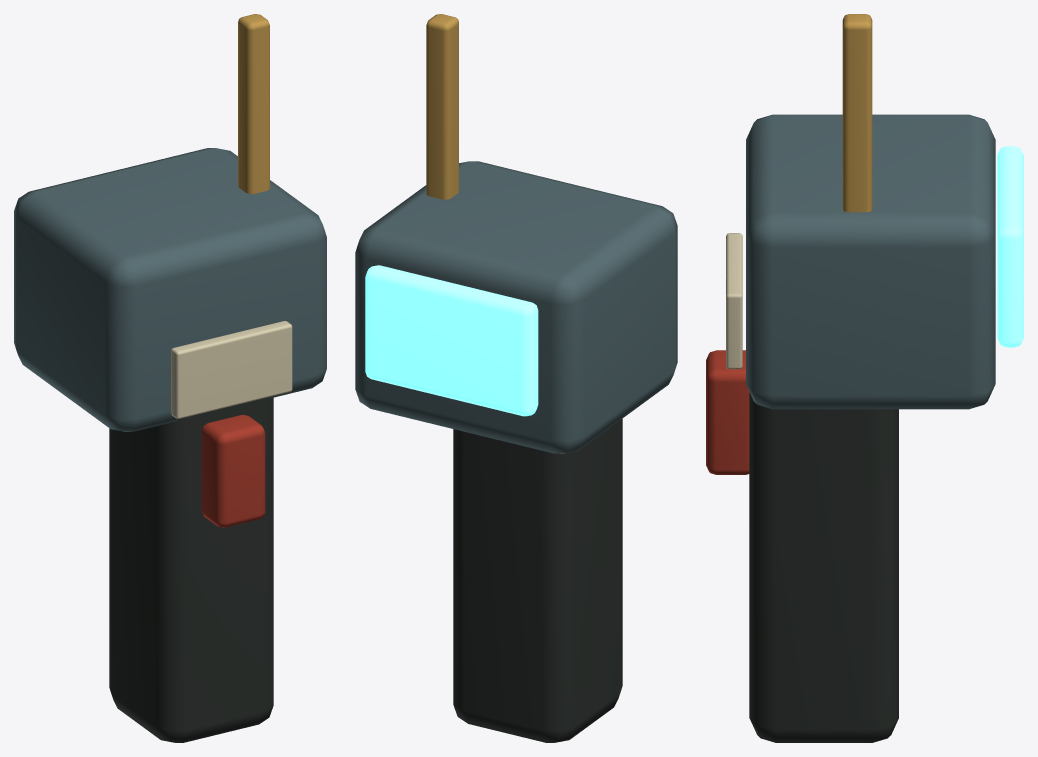
Rendered from inspection-probe.glb.
3 views of the same model, side by side, from view 1: azimuth 30°, elevation 25°; view 2: azimuth 150°, elevation 25°; view 3: azimuth 270°, elevation 25° (orthographic). The views are drawn at different scales.
Visible parts, largest first — view 1: ProbeHead, ProbeGrip, ProbeGauge, ProbeTrigger, ProbeAntenna; view 2: ProbeHead, ProbeGrip, ProbeLens, ProbeAntenna; view 3: ProbeHead, ProbeGrip, ProbeAntenna, ProbeLens, ProbeTrigger, ProbeGauge.
Boxes of the visible parts, x1=… form: ProbeHead: x1=14, y1=148, x2=326, y2=431; ProbeGrip: x1=109, y1=397, x2=273, y2=742; ProbeGauge: x1=171, y1=321, x2=292, y2=418; ProbeTrigger: x1=201, y1=414, x2=265, y2=527; ProbeAntenna: x1=238, y1=14, x2=269, y2=194; ProbeHead: x1=355, y1=161, x2=677, y2=453; ProbeGrip: x1=453, y1=418, x2=622, y2=742; ProbeLens: x1=365, y1=265, x2=538, y2=416; ProbeAntenna: x1=426, y1=14, x2=458, y2=199; ProbeHead: x1=746, y1=114, x2=995, y2=409; ProbeGrip: x1=749, y1=392, x2=898, y2=742; ProbeAntenna: x1=842, y1=14, x2=872, y2=212; ProbeLens: x1=997, y1=146, x2=1023, y2=347; ProbeTrigger: x1=706, y1=350, x2=749, y2=474; ProbeGauge: x1=726, y1=233, x2=742, y2=369.
Bounding box in the file's own units: 0.085 × 0.2475 × 0.0955.
